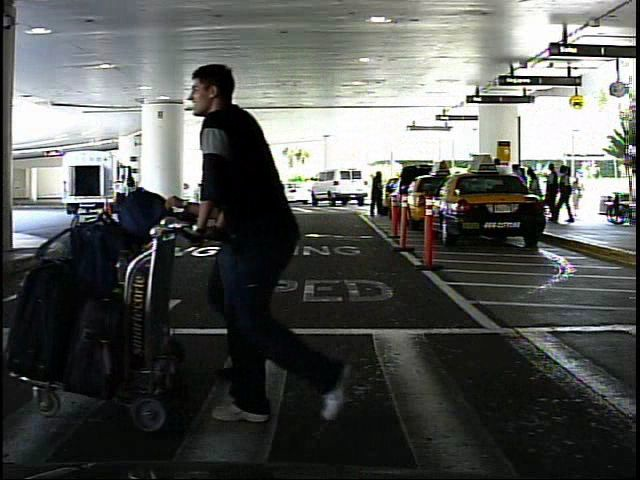person: (186, 46, 348, 425), (369, 167, 389, 223), (112, 170, 130, 218), (572, 172, 585, 219)
